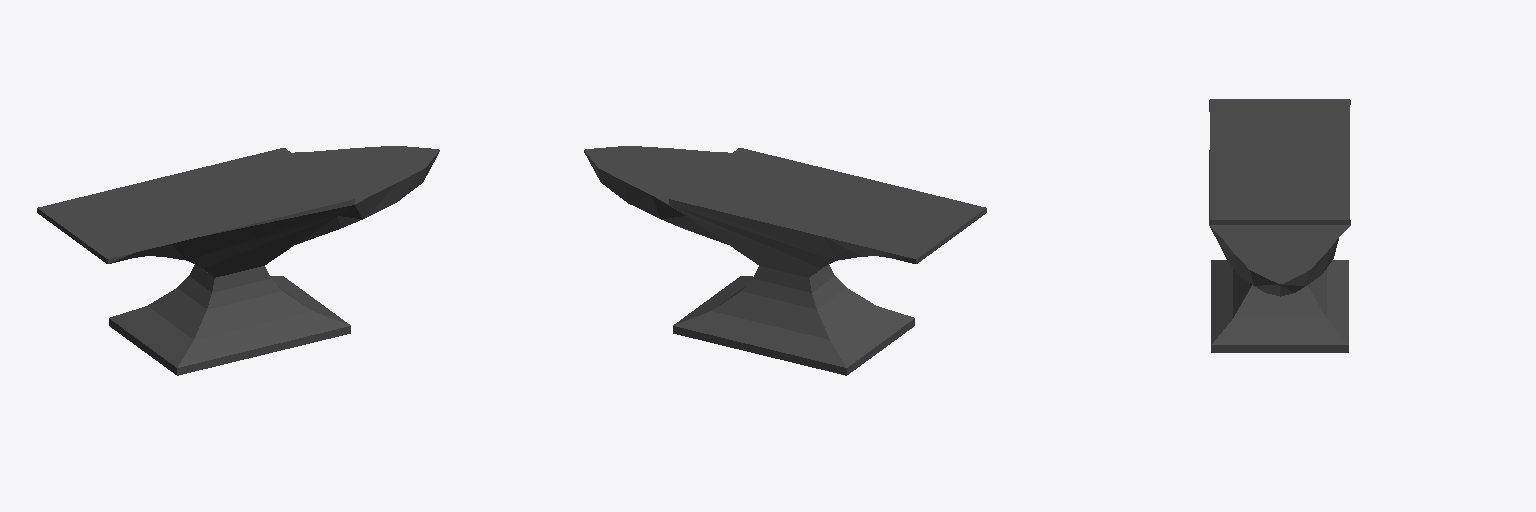
File: Anvil_01.obj
3 renders of one model, left to right at view 1: azimuth 30°, elevation 25°; view 2: azimuth 150°, elevation 25°; view 3: azimuth 270°, elevation 25°, orthographic.
Visible parts, largest first — view 1: Anvil_01; view 2: Anvil_01; view 3: Anvil_01.
Part boxes in pixels (x1,y1,x2,y2): Anvil_01: (37, 146, 439, 375); Anvil_01: (584, 146, 986, 375); Anvil_01: (1209, 99, 1350, 352).
Size of the model in its own units: 0.8963 by 0.3132 by 0.2986.